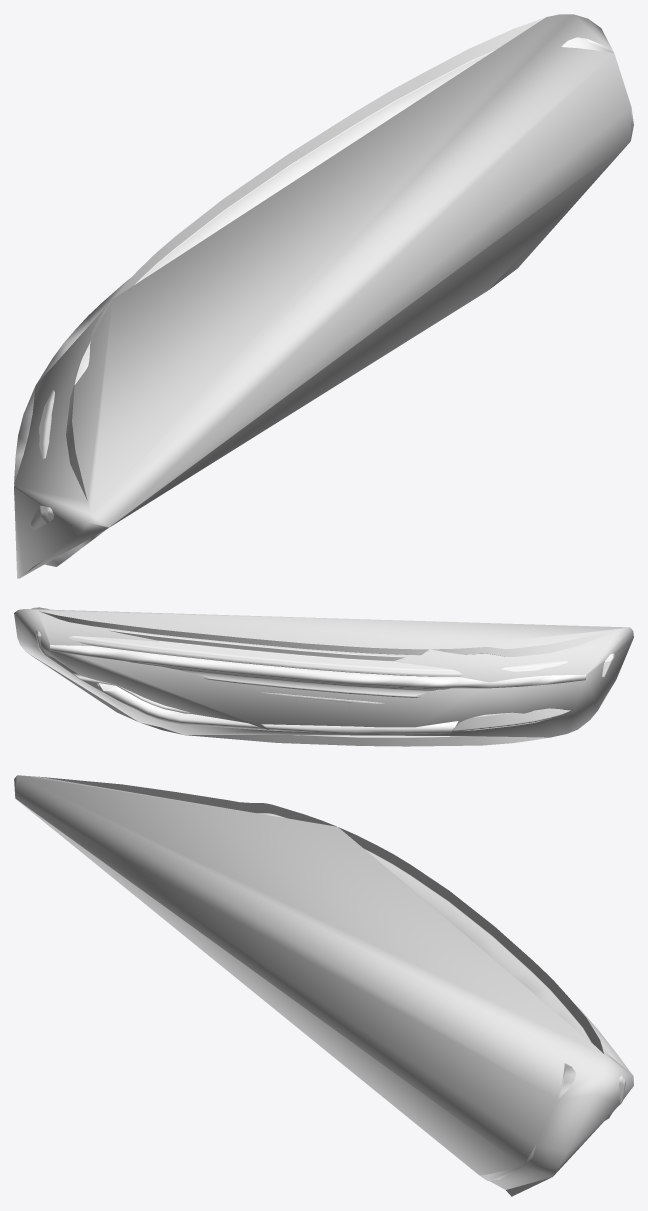
3 views of the same model, one above another, from view 1: azimuth 30°, elevation 25°; view 2: azimuth 150°, elevation 25°; view 3: azimuth 270°, elevation 25° (orthographic). The views are drawn at different scales.
Visible parts, largest first — view 1: light_eclipse_tail_l_01_col, light_eclipse_tail_l_01; view 2: light_eclipse_tail_l_01_col, light_eclipse_tail_l_01; view 3: light_eclipse_tail_l_01_col, light_eclipse_tail_l_01.
Boxes of the visible parts, bbox=[...] form: light_eclipse_tail_l_01_col: bbox=[14, 14, 631, 578]; light_eclipse_tail_l_01: bbox=[14, 17, 633, 573]; light_eclipse_tail_l_01_col: bbox=[14, 609, 633, 737]; light_eclipse_tail_l_01: bbox=[28, 607, 618, 746]; light_eclipse_tail_l_01_col: bbox=[14, 775, 633, 1189]; light_eclipse_tail_l_01: bbox=[15, 776, 633, 1196].
Bounding box in the file's own units: 0.6246 × 0.1579 × 0.432.
2 materials, 1 textured.
